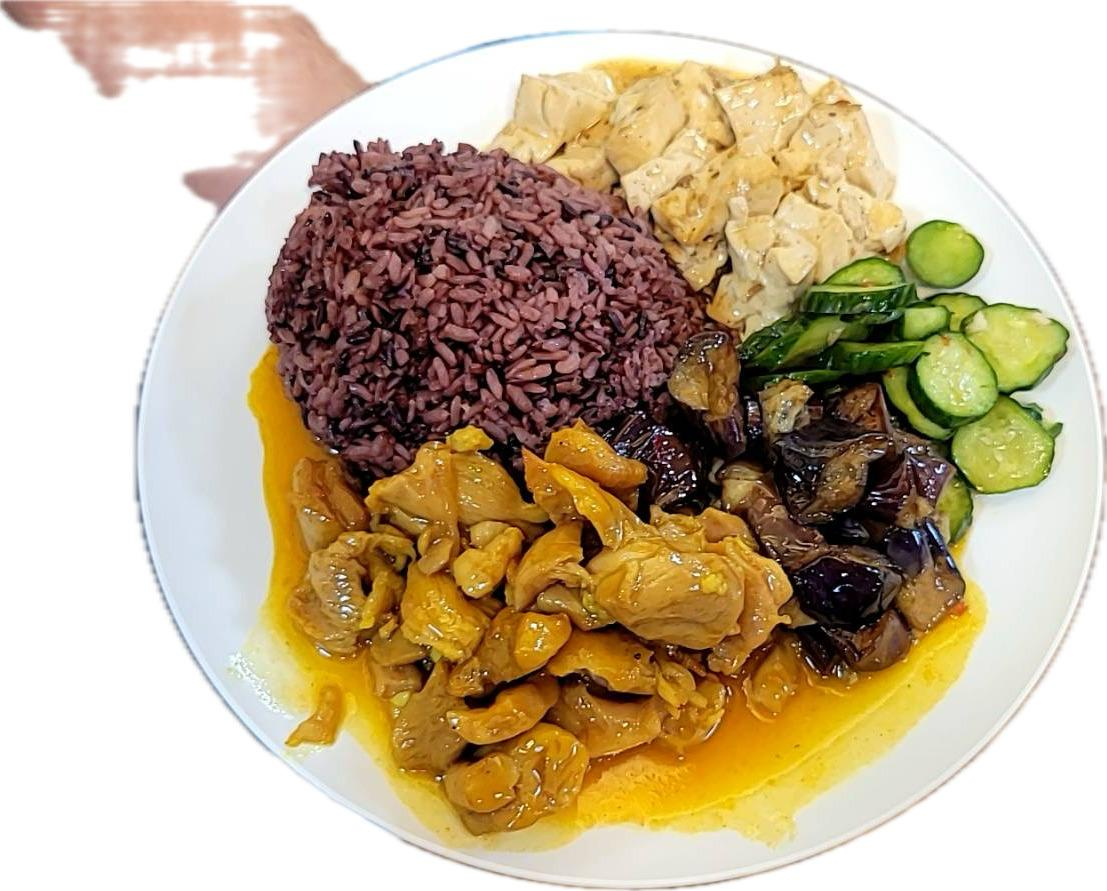big fried chicken leg: (124, 24, 1094, 877)
braised fish: (260, 136, 693, 478)
braised fish fillet: (502, 54, 909, 352), (670, 320, 960, 685), (758, 216, 1075, 490)
braised pork: (290, 426, 784, 849)
